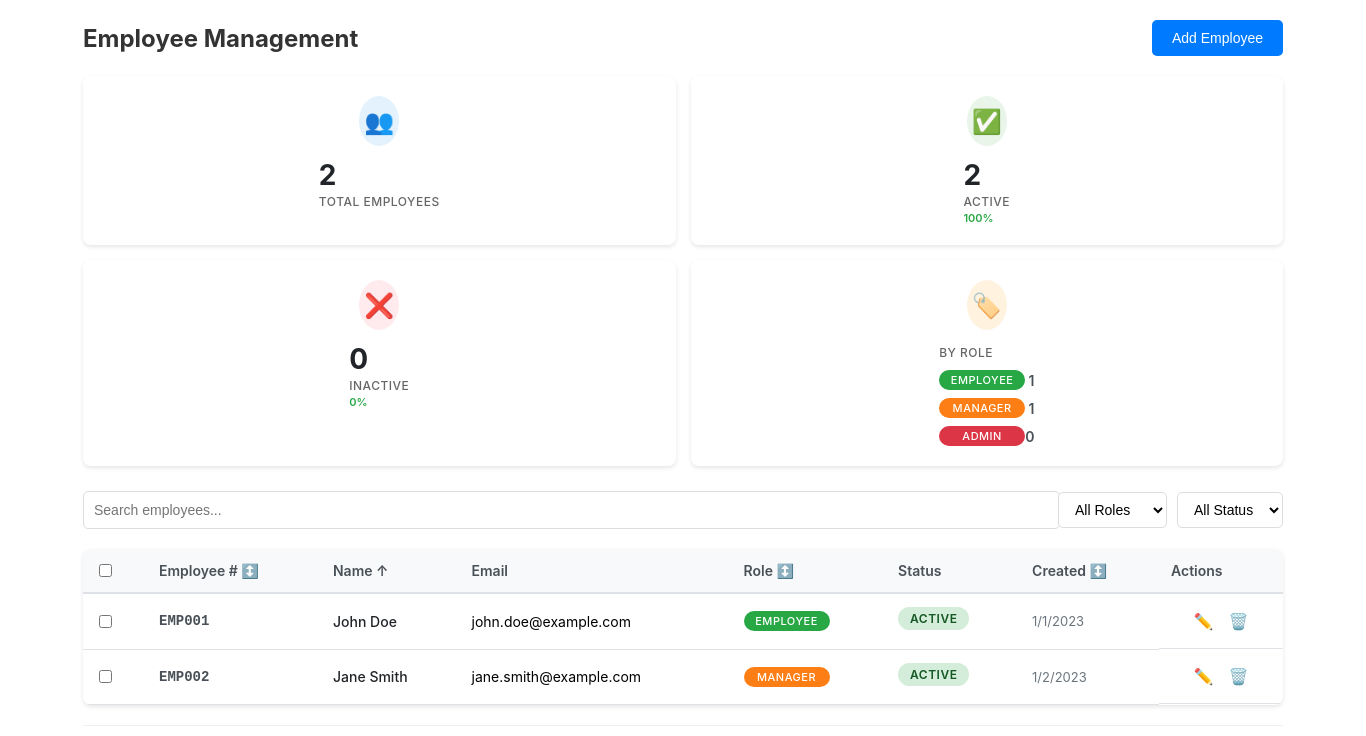
Test case: EmployeeManagement › handles select all functionality
The width and height of the screenshot is (1366, 736).
What coordinates should you click on to do the following:
click the checkbox next to "Employee #"
I would click on:
 (106, 570)
Its box is [99,564,112,577].
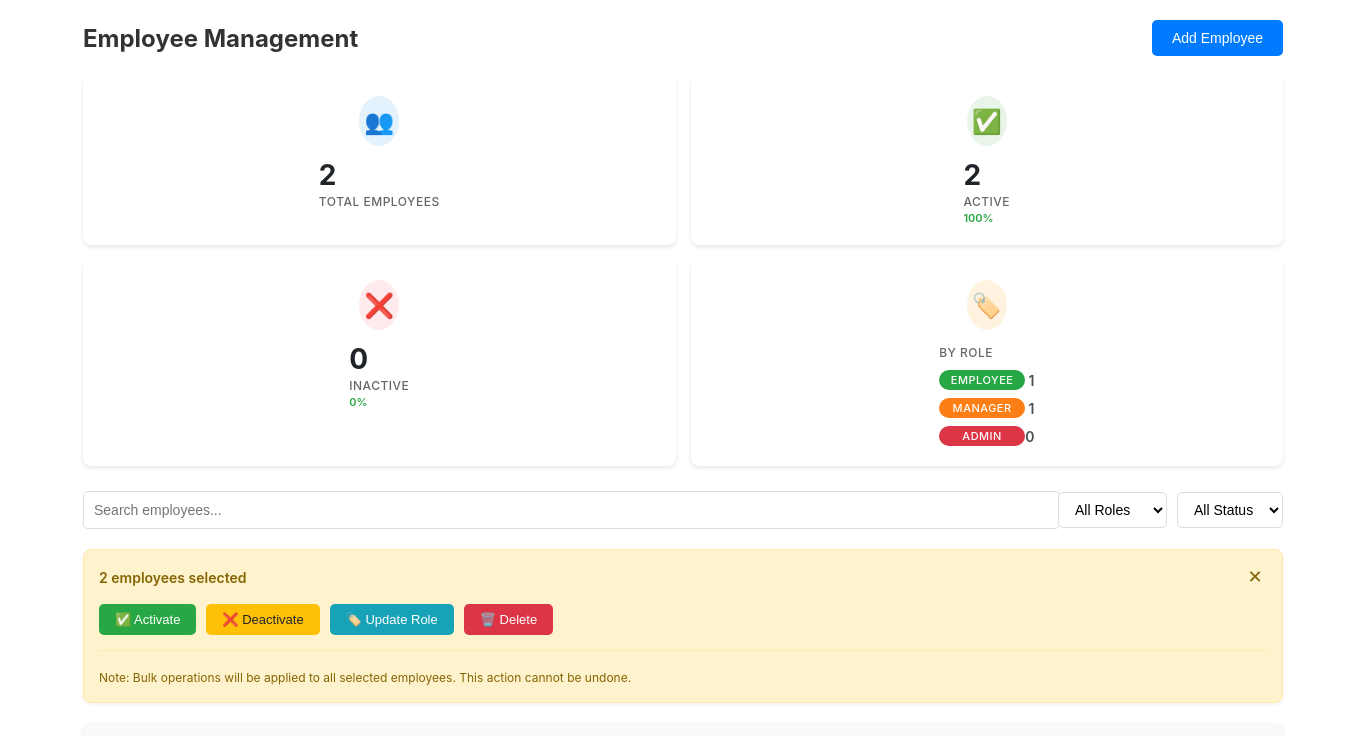
Expected: the text "2 employees selected" is shown, [99,568,246,586]
